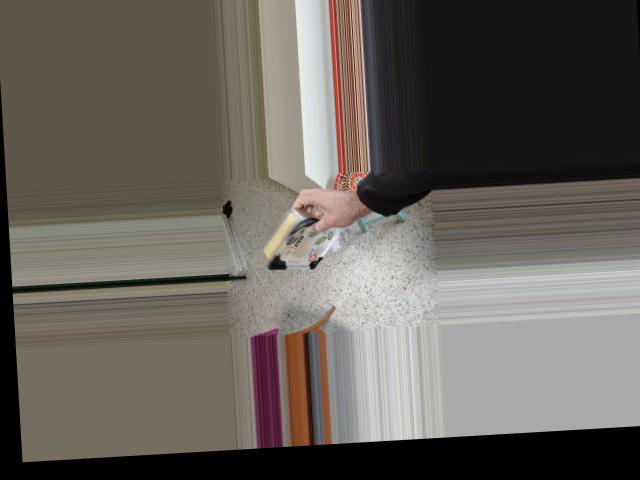cheese: (240, 181, 339, 297)
